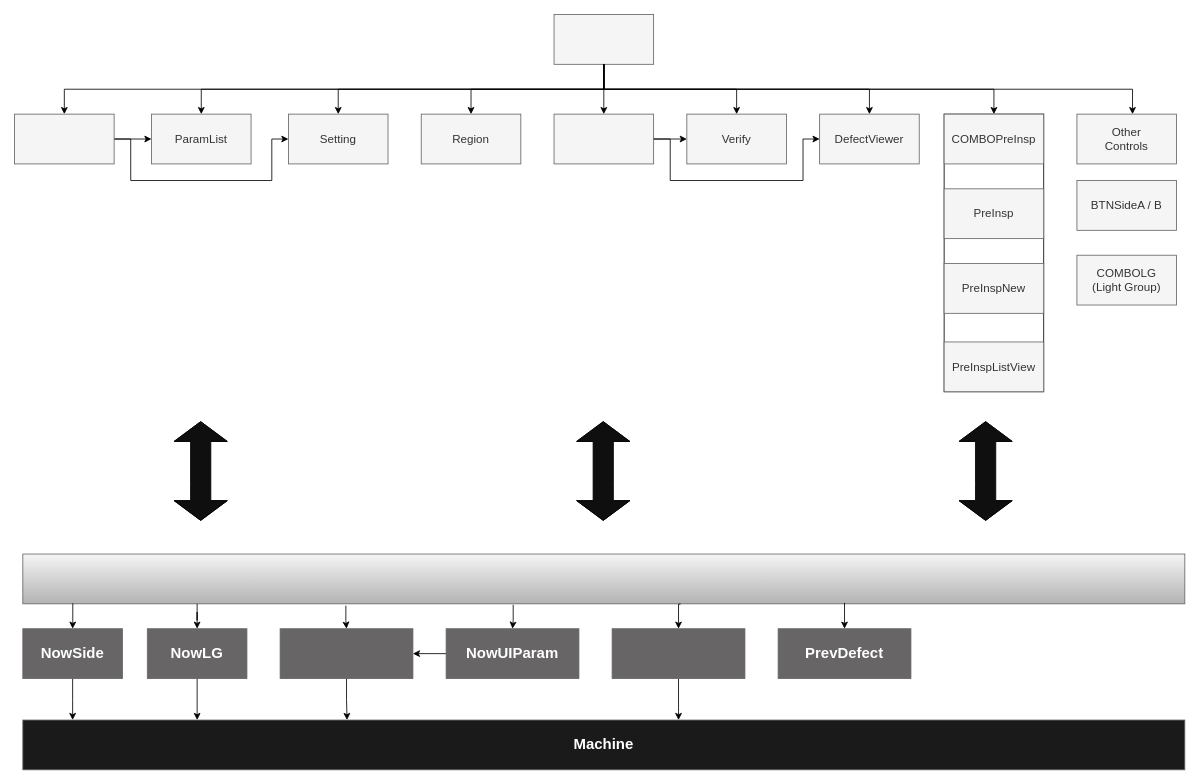
The diagram is 1199 pixels wide and 784 high, and some of its shapes have lost their labels. Each missing label, with the centre of its shape:
"DM" goes at [603,138].
"NowDefect" goes at [678,653].
"NowInspParam" goes at [346,653].
"Page" goes at [603,39].
"PM" goes at [64,138].
"UI Logic" goes at [603,578].
